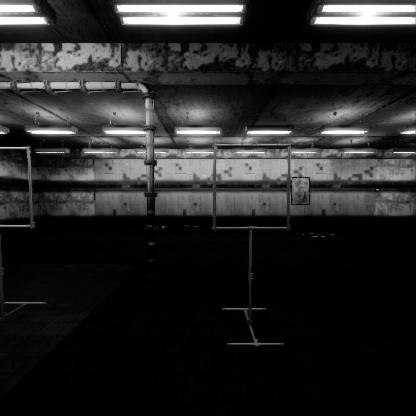gate: (213, 185, 298, 272)
